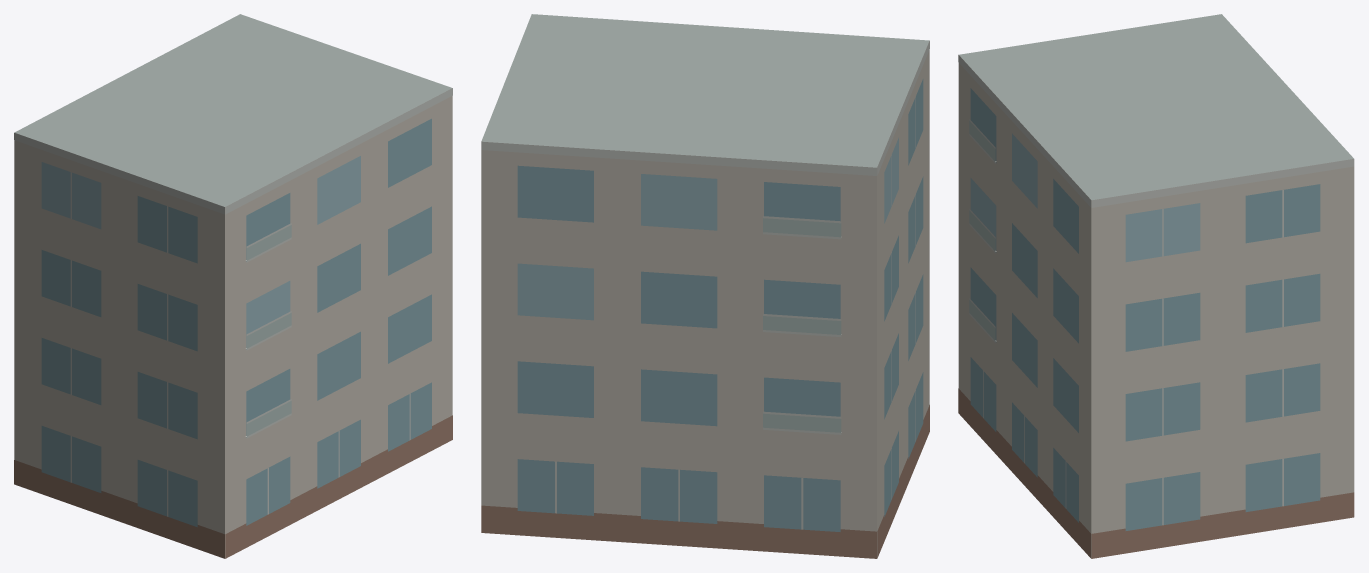
Rendered from survey-upis-32864037.glb.
3 views of the same model, side by side, from view 1: azimuth 30°, elevation 25°; view 2: azimuth 150°, elevation 25°; view 3: azimuth 270°, elevation 25° (orthographic). The views are drawn at different scales.
Parts seen in each view (by area): view 1: survey-upis-32864037.tmp; view 2: survey-upis-32864037.tmp; view 3: survey-upis-32864037.tmp.
Boxes of the visible parts, x1,y1,x2,y2 form: survey-upis-32864037.tmp: [14, 14, 452, 558]; survey-upis-32864037.tmp: [481, 14, 929, 558]; survey-upis-32864037.tmp: [958, 14, 1354, 558].
Bounding box in the file's own units: 12.71 × 11.4 × 11.41.
